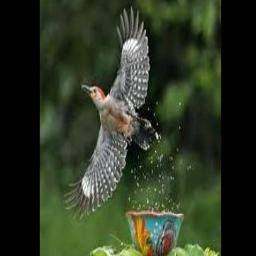Woodpecker: (64, 7, 157, 216)
